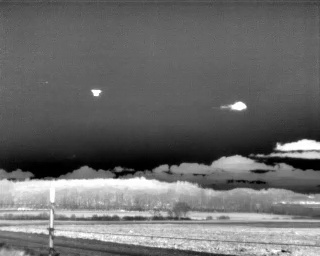DRONE: (88, 85, 106, 101)
